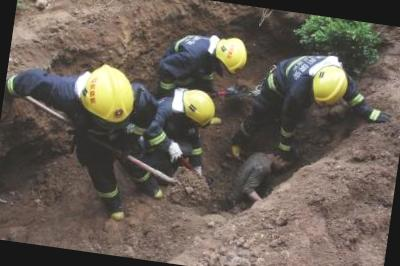no_helmet: (266, 144, 298, 176)
person: (0, 51, 166, 231), (234, 47, 389, 160), (131, 82, 224, 195), (152, 25, 256, 104), (223, 138, 299, 218)
